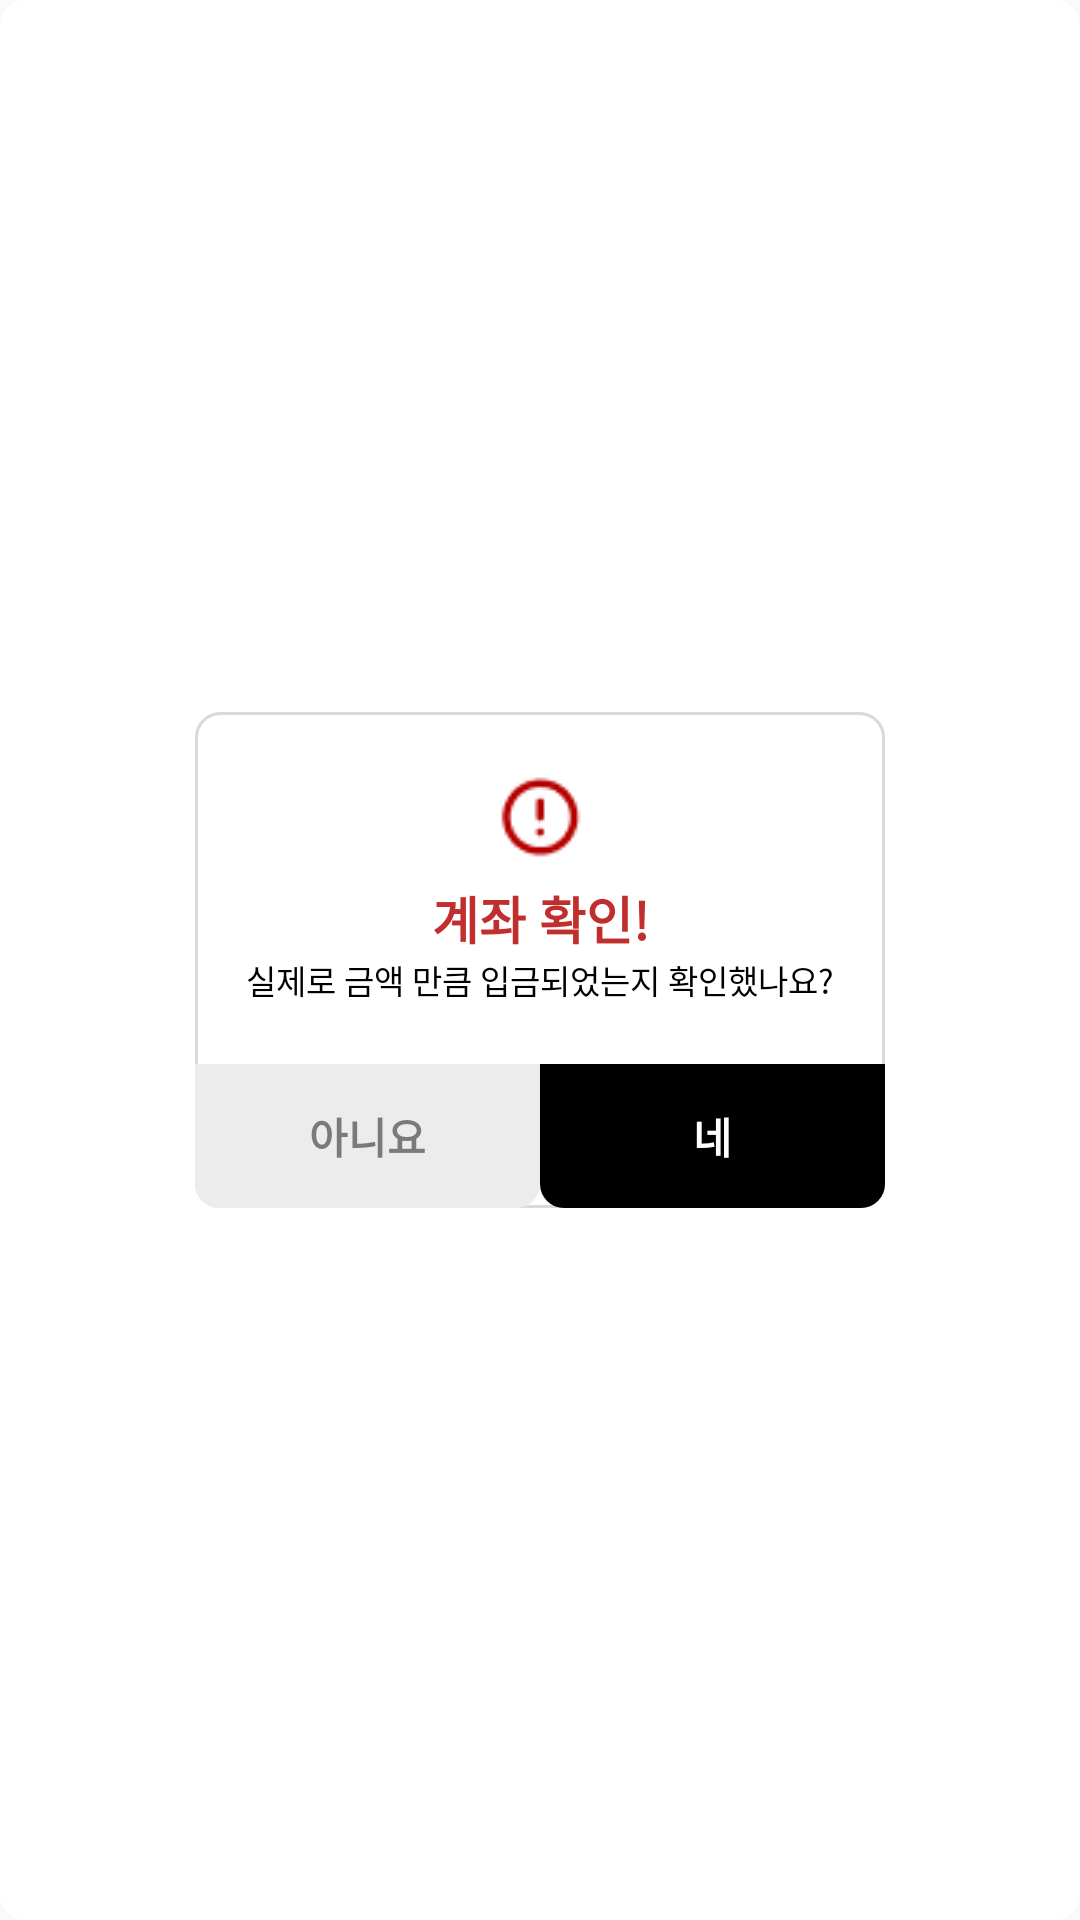

Icon click points for this 1080×1920 phone screenshot, format point (x, y):
error: point (540, 817)
